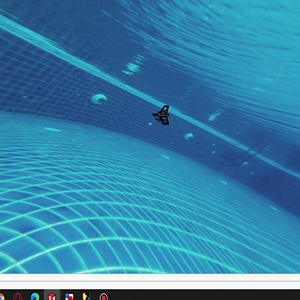submarine: (154, 107, 174, 129)
